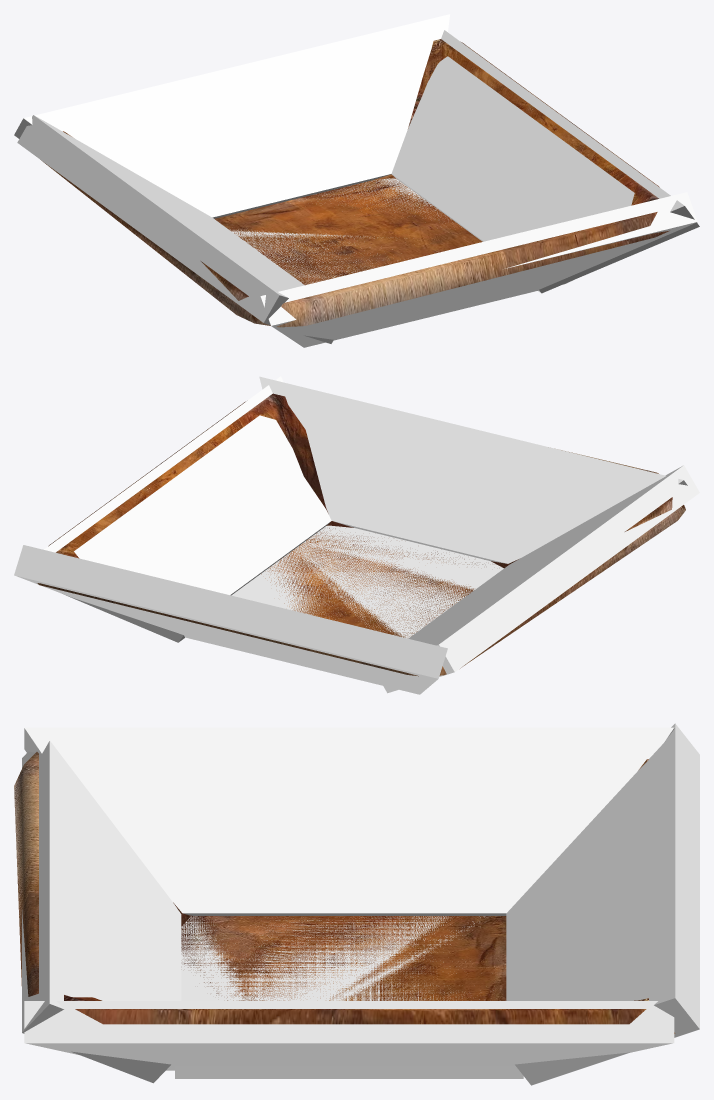
The model's file is BreadBowl.fbx.
The picture shows the model from 3 angles, top to bottom: view 1: azimuth 30°, elevation 25°; view 2: azimuth 150°, elevation 25°; view 3: azimuth 270°, elevation 25°; orthographic projection. The views are drawn at different scales.
Parts seen in each view (by area): view 1: Group6, Group1, Group5, Group3, Group4, Group2; view 2: Group4, Group5, Group6, Group1, Group2, Group3; view 3: Group3, Group6, Group1, Group5, Group4, Group2.
Part boxes in pixels (x1,y1,x2,y2): Group6: (14,14,449,218); Group1: (41,39,669,327); Group5: (391,30,699,293); Group3: (17,115,333,343); Group4: (260,192,697,347); Group2: (229,178,461,284); Group4: (259,376,687,563); Group5: (44,376,331,642); Group6: (14,545,447,694); Group1: (37,393,685,676); Group2: (231,525,503,638); Group3: (382,465,699,693); Group3: (24,727,674,915); Group6: (506,723,699,1085); Group1: (14,752,675,1033); Group5: (24,1001,674,1070); Group4: (22,740,181,1083); Group2: (175,916,523,1078).
Bounding box in the file's own units: 266 × 63.14 × 273.
